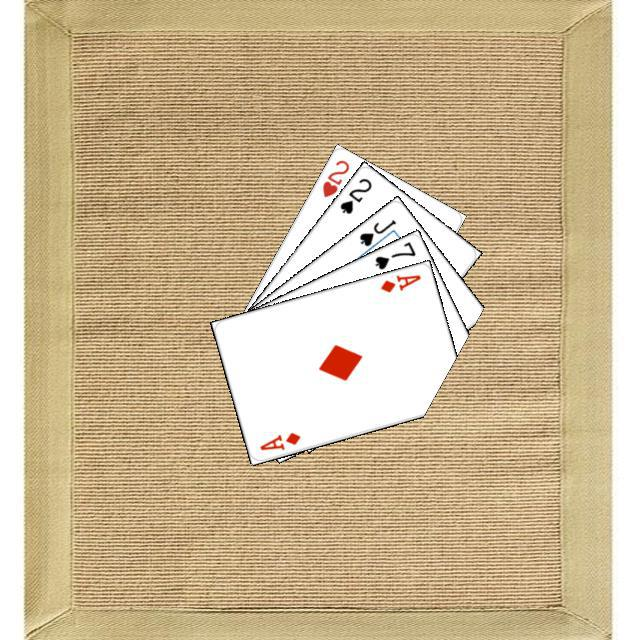2h: (317, 155, 351, 199)
2s: (335, 173, 373, 216)
7s: (370, 237, 417, 271)
Ad: (255, 427, 302, 452), (375, 270, 423, 294)
Js: (354, 214, 398, 248)
